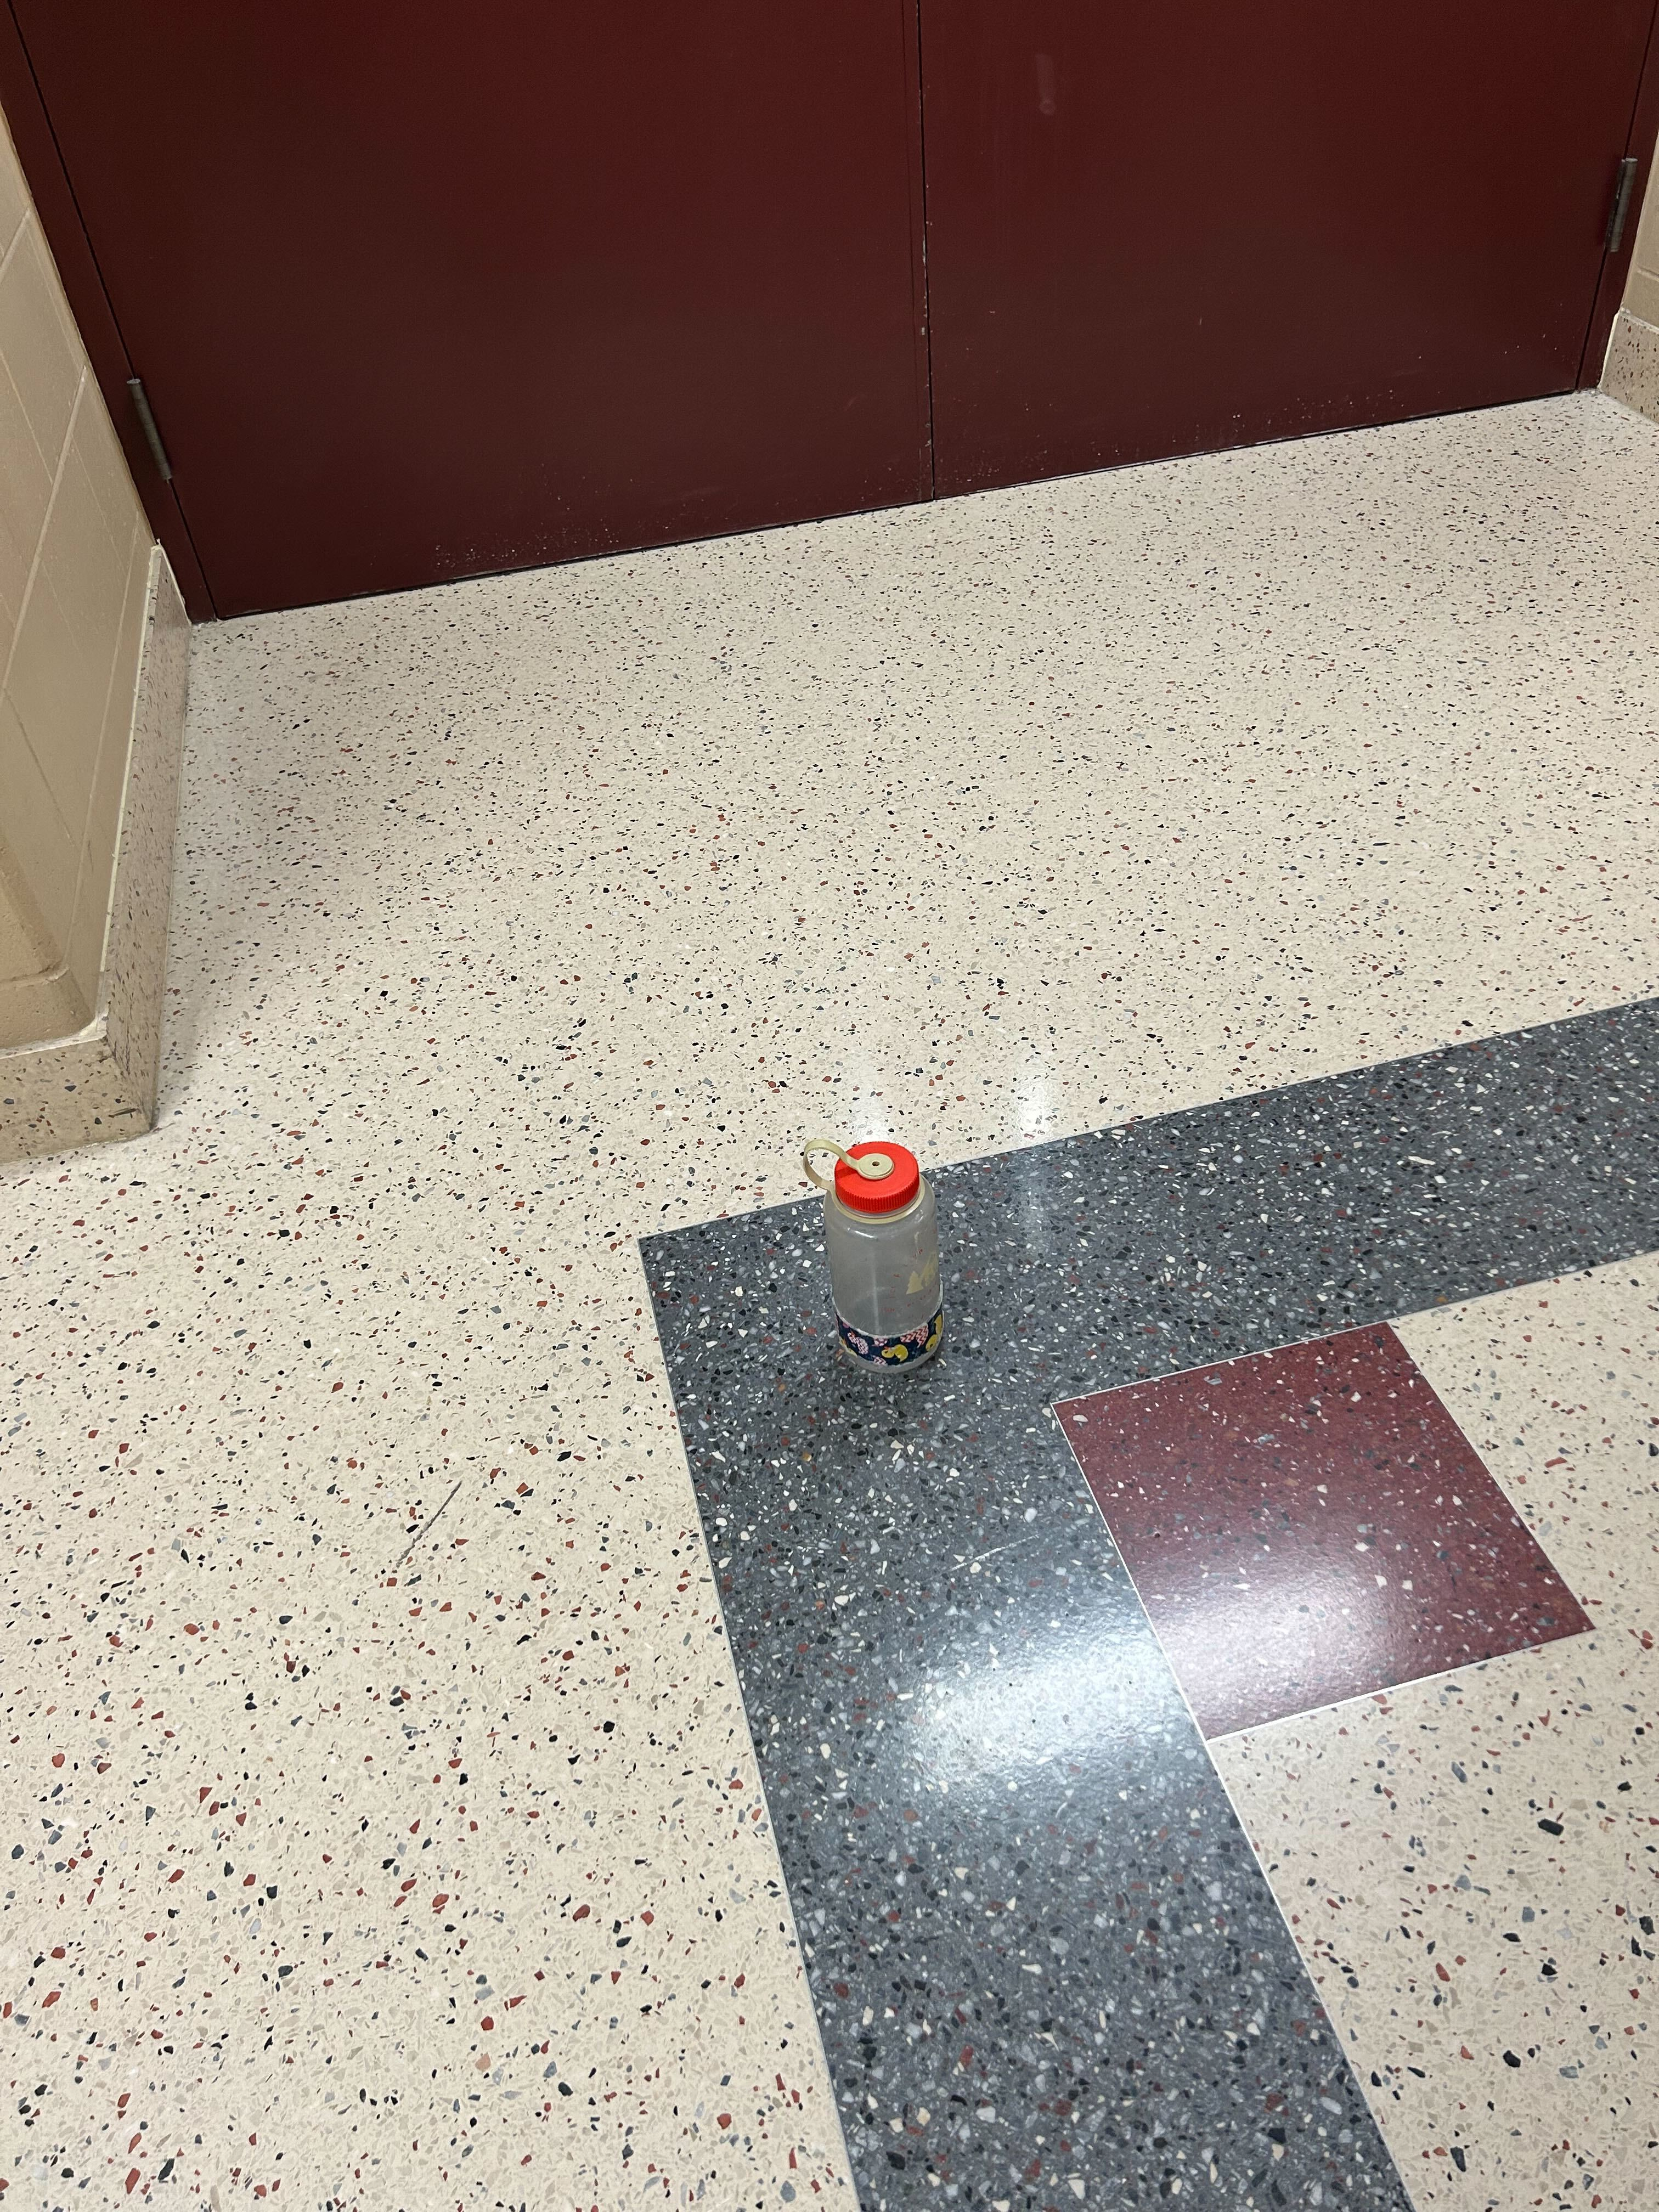bottle: (795, 1122, 948, 1390)
